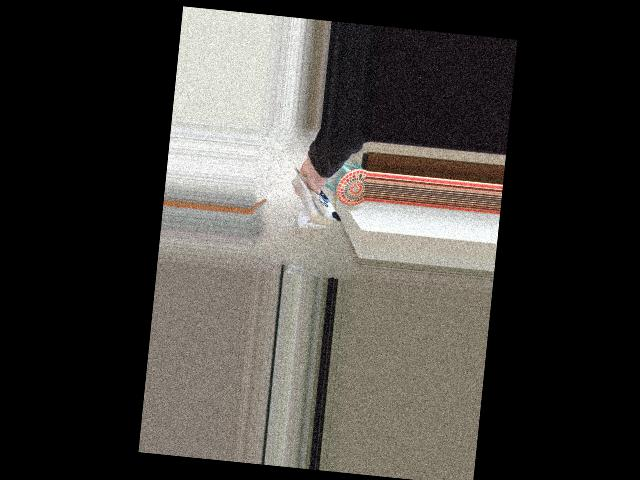cheese: (280, 156, 355, 237)
